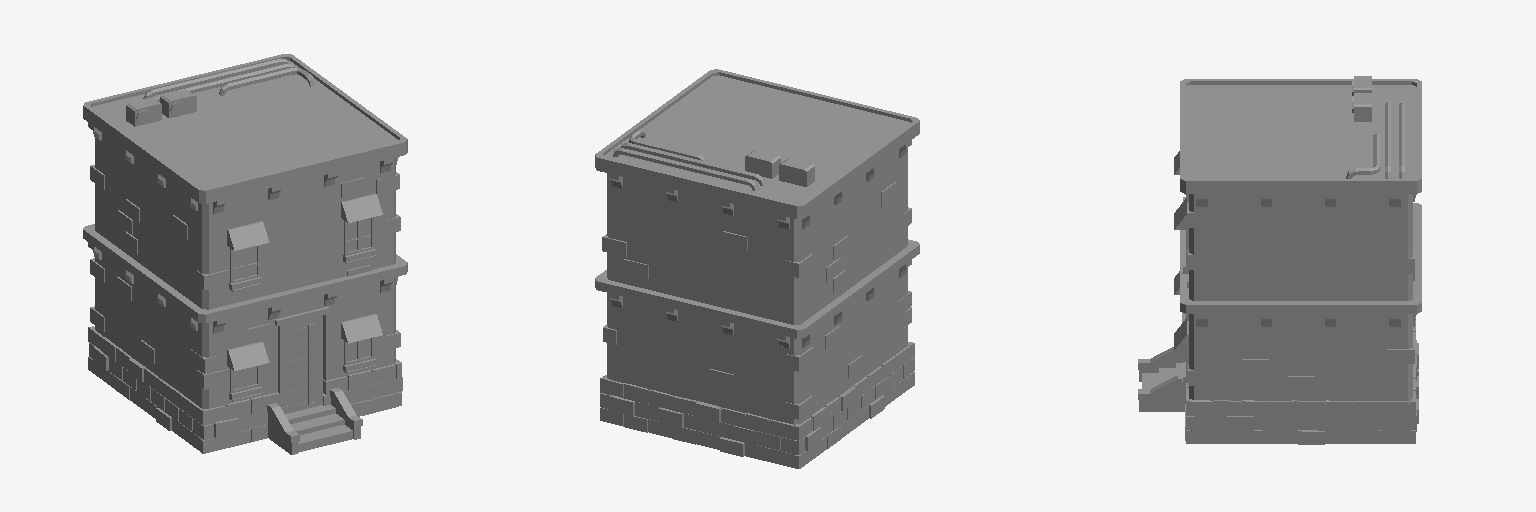
Rendered from 2Story.obj.
The picture shows the model from 3 angles: view 1: azimuth 30°, elevation 25°; view 2: azimuth 150°, elevation 25°; view 3: azimuth 270°, elevation 25°; orthographic projection.
Visible parts, largest first — view 1: 2Story_Cube.016; view 2: 2Story_Cube.016; view 3: 2Story_Cube.016.
Boxes of the visible parts, x1,y1,x2,y2 form: 2Story_Cube.016: [83, 54, 407, 454]; 2Story_Cube.016: [595, 69, 919, 468]; 2Story_Cube.016: [1138, 76, 1421, 444].
Bounding box in the file's own units: 2.16 × 2.75 × 2.53.